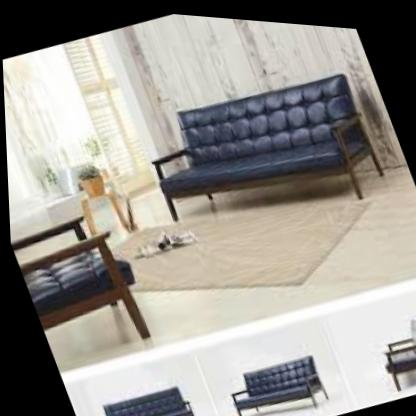Sofa: (114, 28, 416, 278), (7, 190, 169, 376), (207, 322, 346, 416), (84, 364, 211, 416)
